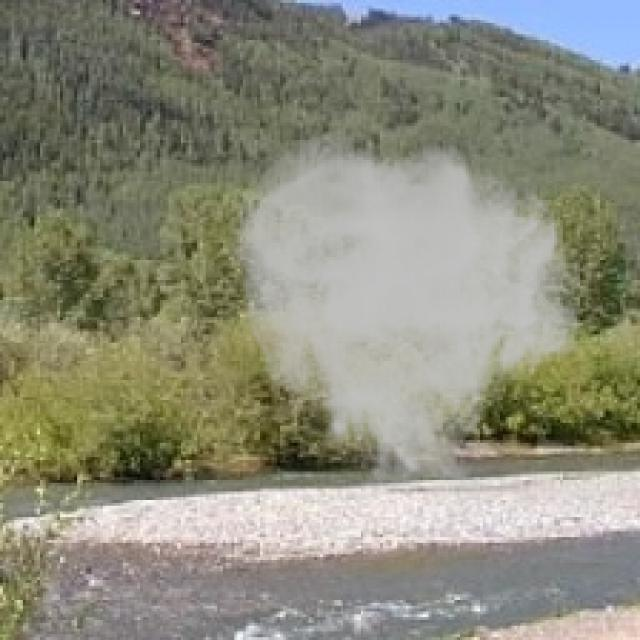smoke: (225, 126, 586, 500)
